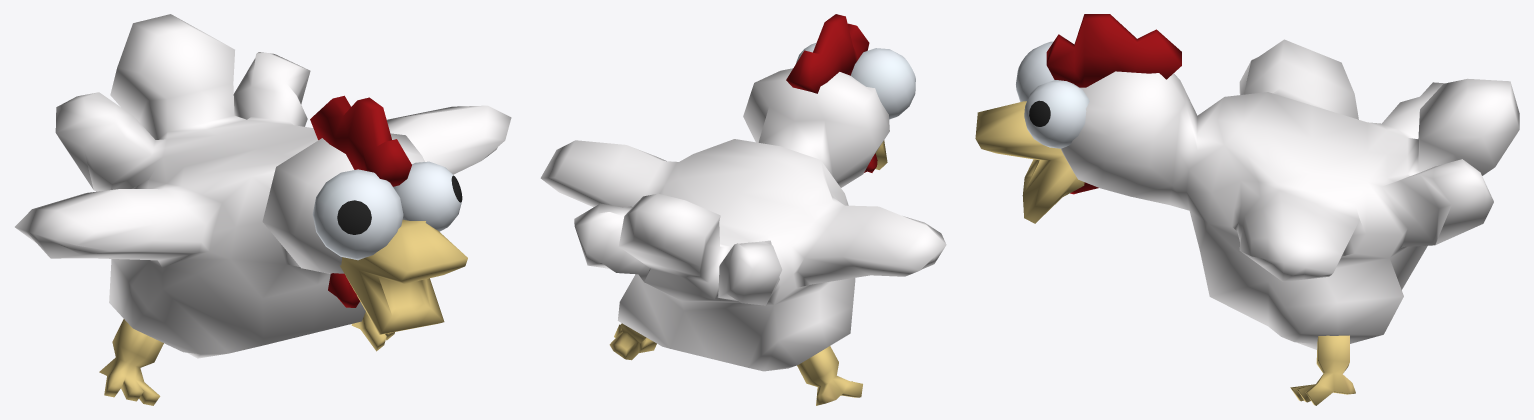
File: Pajaro.glb
3 renders of one model, left to right at view 1: azimuth 30°, elevation 25°; view 2: azimuth 150°, elevation 25°; view 3: azimuth 270°, elevation 25°, orthographic. The views are drawn at different scales.
Visible parts, largest first — view 1: Cube; view 2: Cube; view 3: Cube.
Boxes of the visible parts, left/top/right/bottom form: Cube: left=15, top=14, right=511, bottom=405; Cube: left=540, top=14, right=946, bottom=405; Cube: left=975, top=14, right=1519, bottom=405.
Bounding box in the file's own units: 6.21 × 4.41 × 6.56.
1 material, 1 textured.
